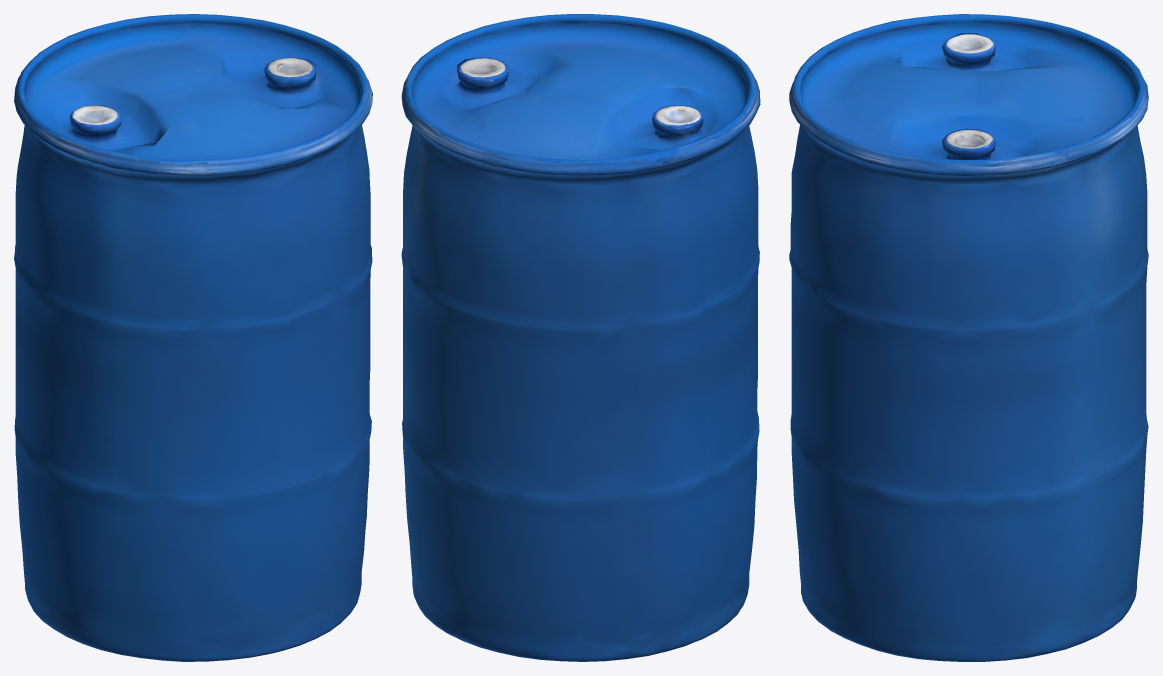
Rendered from Water_Barrel_For_Tent_0311051641_texture.glb.
The picture shows the model from 3 angles, left to right: view 1: azimuth 30°, elevation 25°; view 2: azimuth 150°, elevation 25°; view 3: azimuth 270°, elevation 25°; orthographic projection.
Visible parts, largest first — view 1: Mesh_0; view 2: Mesh_0; view 3: Mesh_0.
Boxes of the visible parts, x1,y1,x2,y2 form: Mesh_0: (14, 14, 372, 661); Mesh_0: (401, 14, 760, 661); Mesh_0: (789, 14, 1148, 661).
Size of the model in its own units: 0.604 by 0.9398 by 0.604.
1 material, 1 textured.
